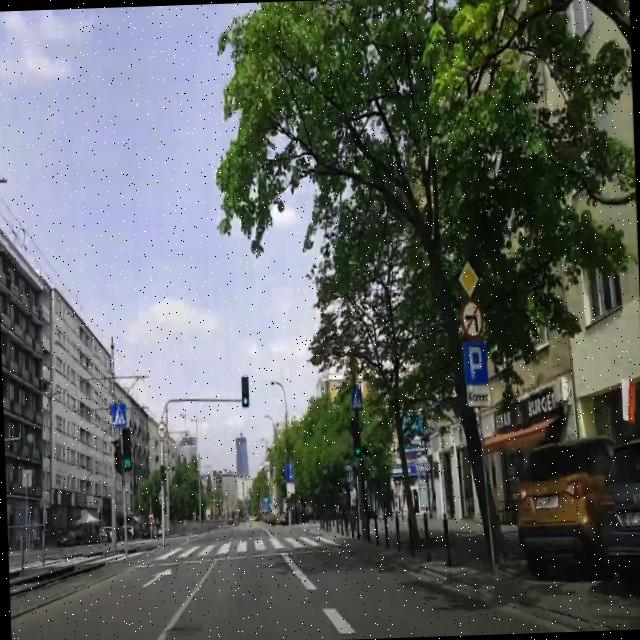Droga z pierwszenstwem: (456, 257, 479, 297)
Przejscie dla pieszych: (110, 402, 126, 427), (349, 387, 364, 412)
